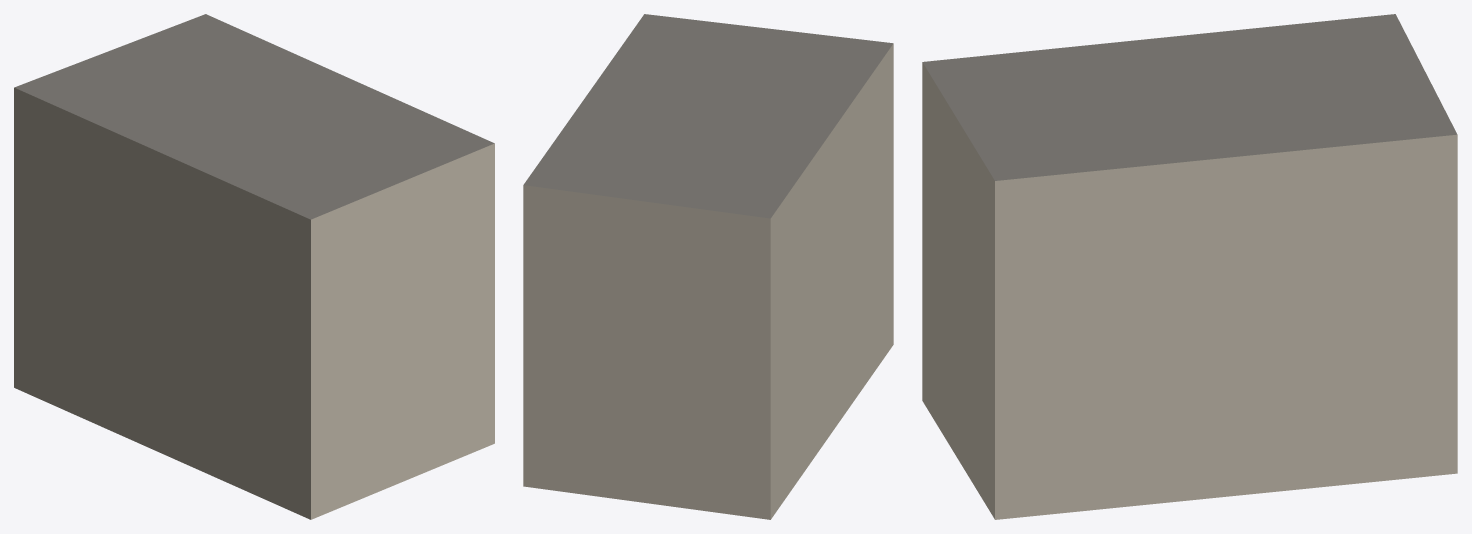
3 views of the same model, side by side, from view 1: azimuth 30°, elevation 25°; view 2: azimuth 150°, elevation 25°; view 3: azimuth 270°, elevation 25° (orthographic). The views are drawn at different scales.
Visible parts, largest first — view 1: HP-w505655134; view 2: HP-w505655134; view 3: HP-w505655134.
Part boxes in pixels (x1,y1,x2,y2): HP-w505655134: (14,14,494,519); HP-w505655134: (523,14,893,519); HP-w505655134: (922,14,1457,519).
Bounding box in the file's own units: 15.86 × 15 × 21.47.
